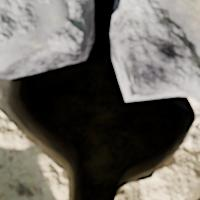broken_brick: (114, 0, 199, 100), (0, 0, 86, 79)
crack: (2, 0, 197, 199)
